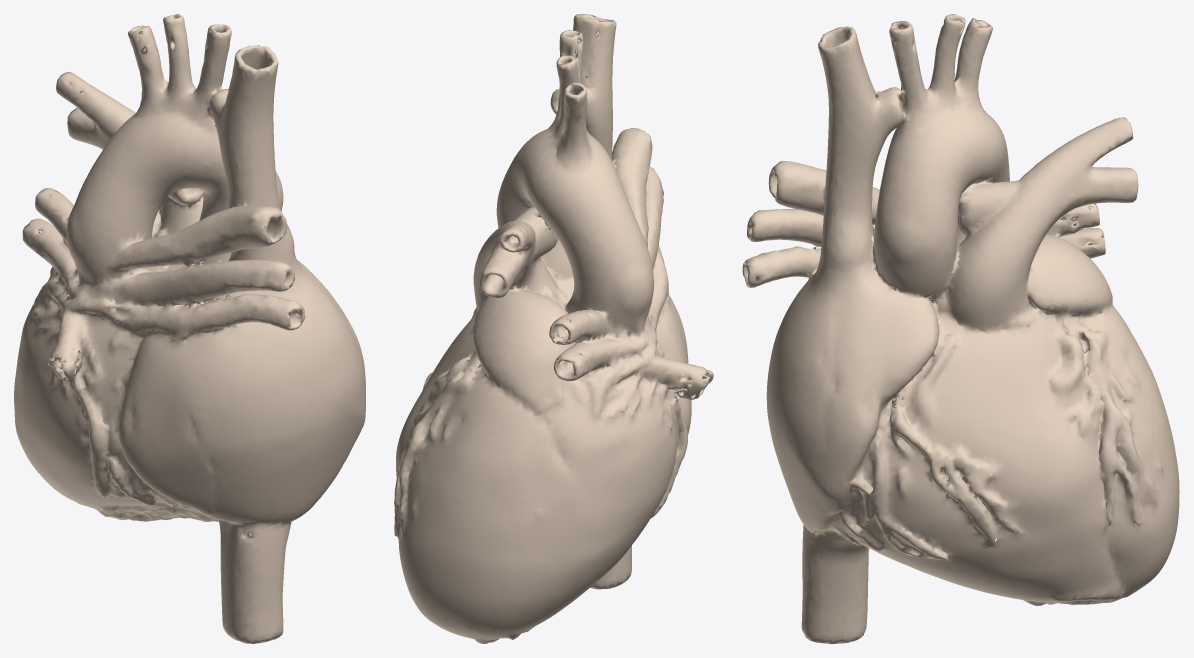
The model's file is heart-study.glb.
3 views of the same model, side by side, from view 1: azimuth 30°, elevation 25°; view 2: azimuth 150°, elevation 25°; view 3: azimuth 270°, elevation 25° (orthographic). The views are drawn at different scales.
Bounding box in the file's own units: 0.499 × 0.9994 × 0.6505.
